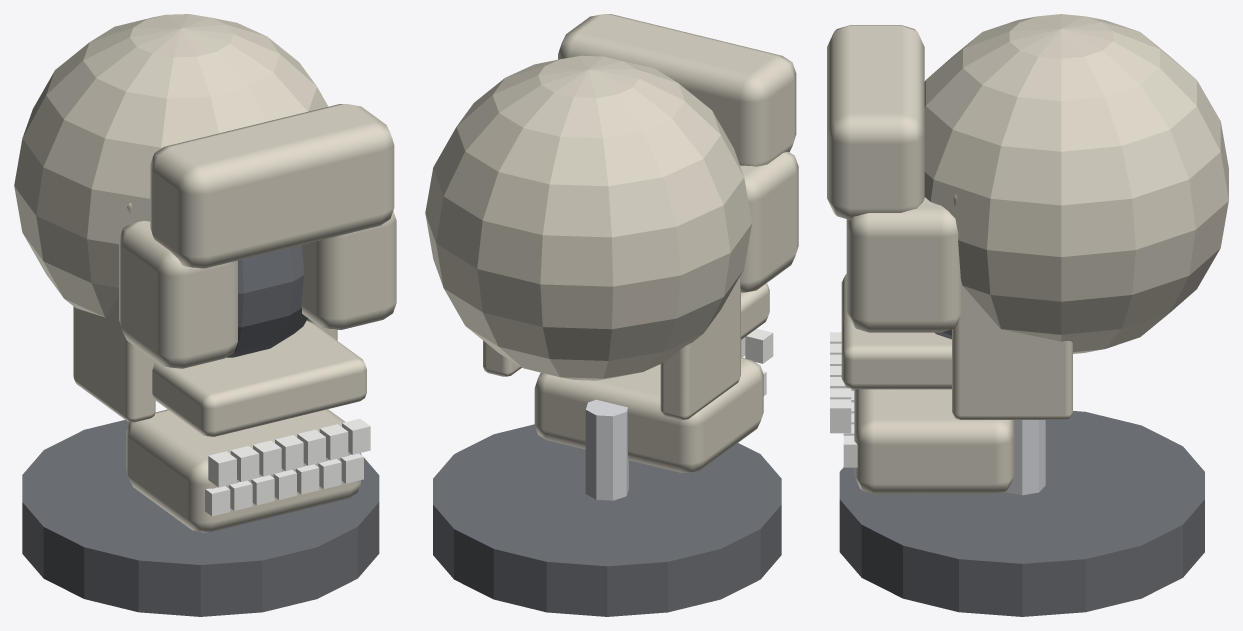
File: human-anatomy-and-education-kit-skull-with-jaw-f8a2f789__38938.glb
3 renders of one model, left to right at view 1: azimuth 30°, elevation 25°; view 2: azimuth 150°, elevation 25°; view 3: azimuth 270°, elevation 25°, orthographic. The views are drawn at different scales.
Parts seen in each view (by area): view 1: skull-with-jaw, jaw/bone, jaw/eye; view 2: skull-with-jaw, jaw/bone; view 3: skull-with-jaw, jaw/bone, jaw/eye.
Part boxes in pixels (left/top/right/bottom): skull-with-jaw: left=14, top=14, right=396, bottom=616; jaw/bone: left=73, top=203, right=360, bottom=532; jaw/eye: left=205, top=453, right=363, bottom=516; skull-with-jaw: left=425, top=14, right=798, bottom=616; jaw/bone: left=483, top=277, right=763, bottom=472; skull-with-jaw: left=827, top=14, right=1228, bottom=616; jaw/bone: left=854, top=194, right=1072, bottom=494; jaw/eye: left=843, top=389, right=857, bottom=467.
Size of the model in its own units: 0.19 by 0.288 by 0.2058.
